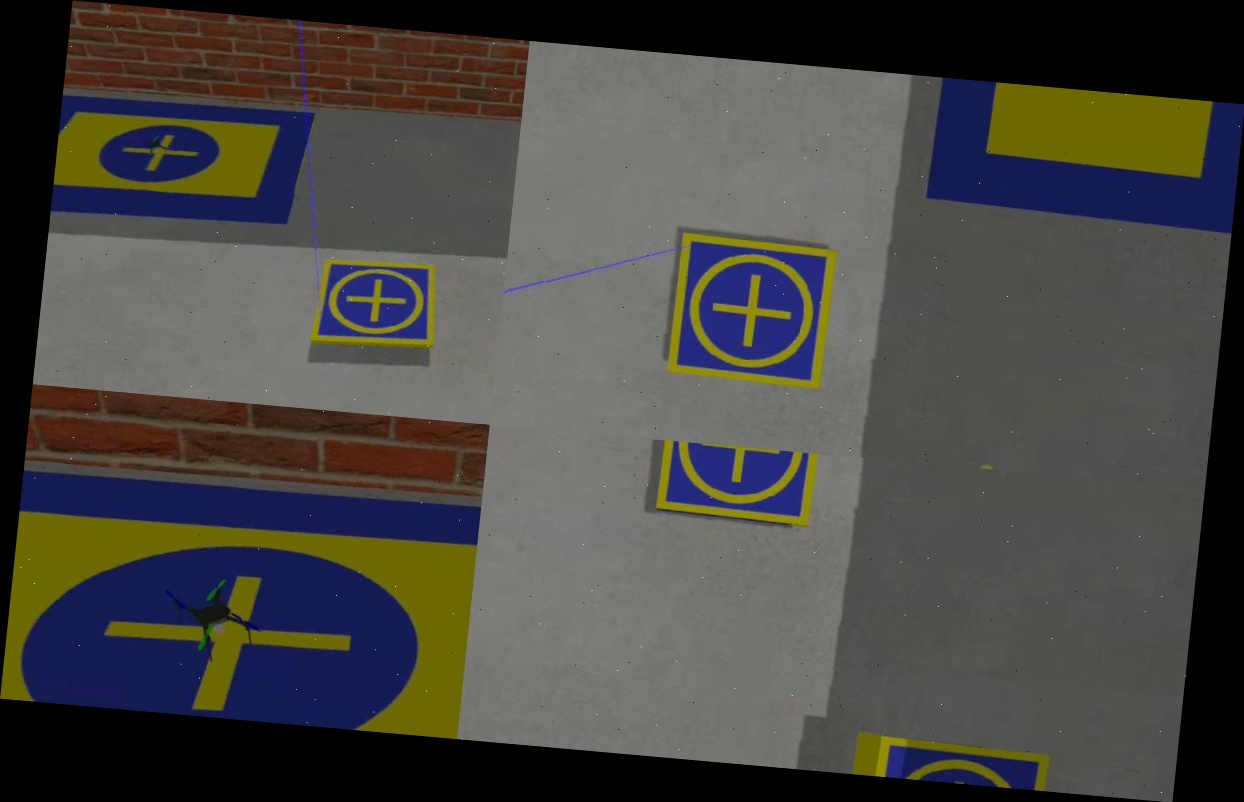large_base: (0, 433, 485, 738), (917, 77, 1244, 242), (48, 73, 316, 254)
small_base: (659, 230, 845, 397), (652, 440, 820, 529), (305, 252, 444, 357), (862, 730, 1053, 791)
